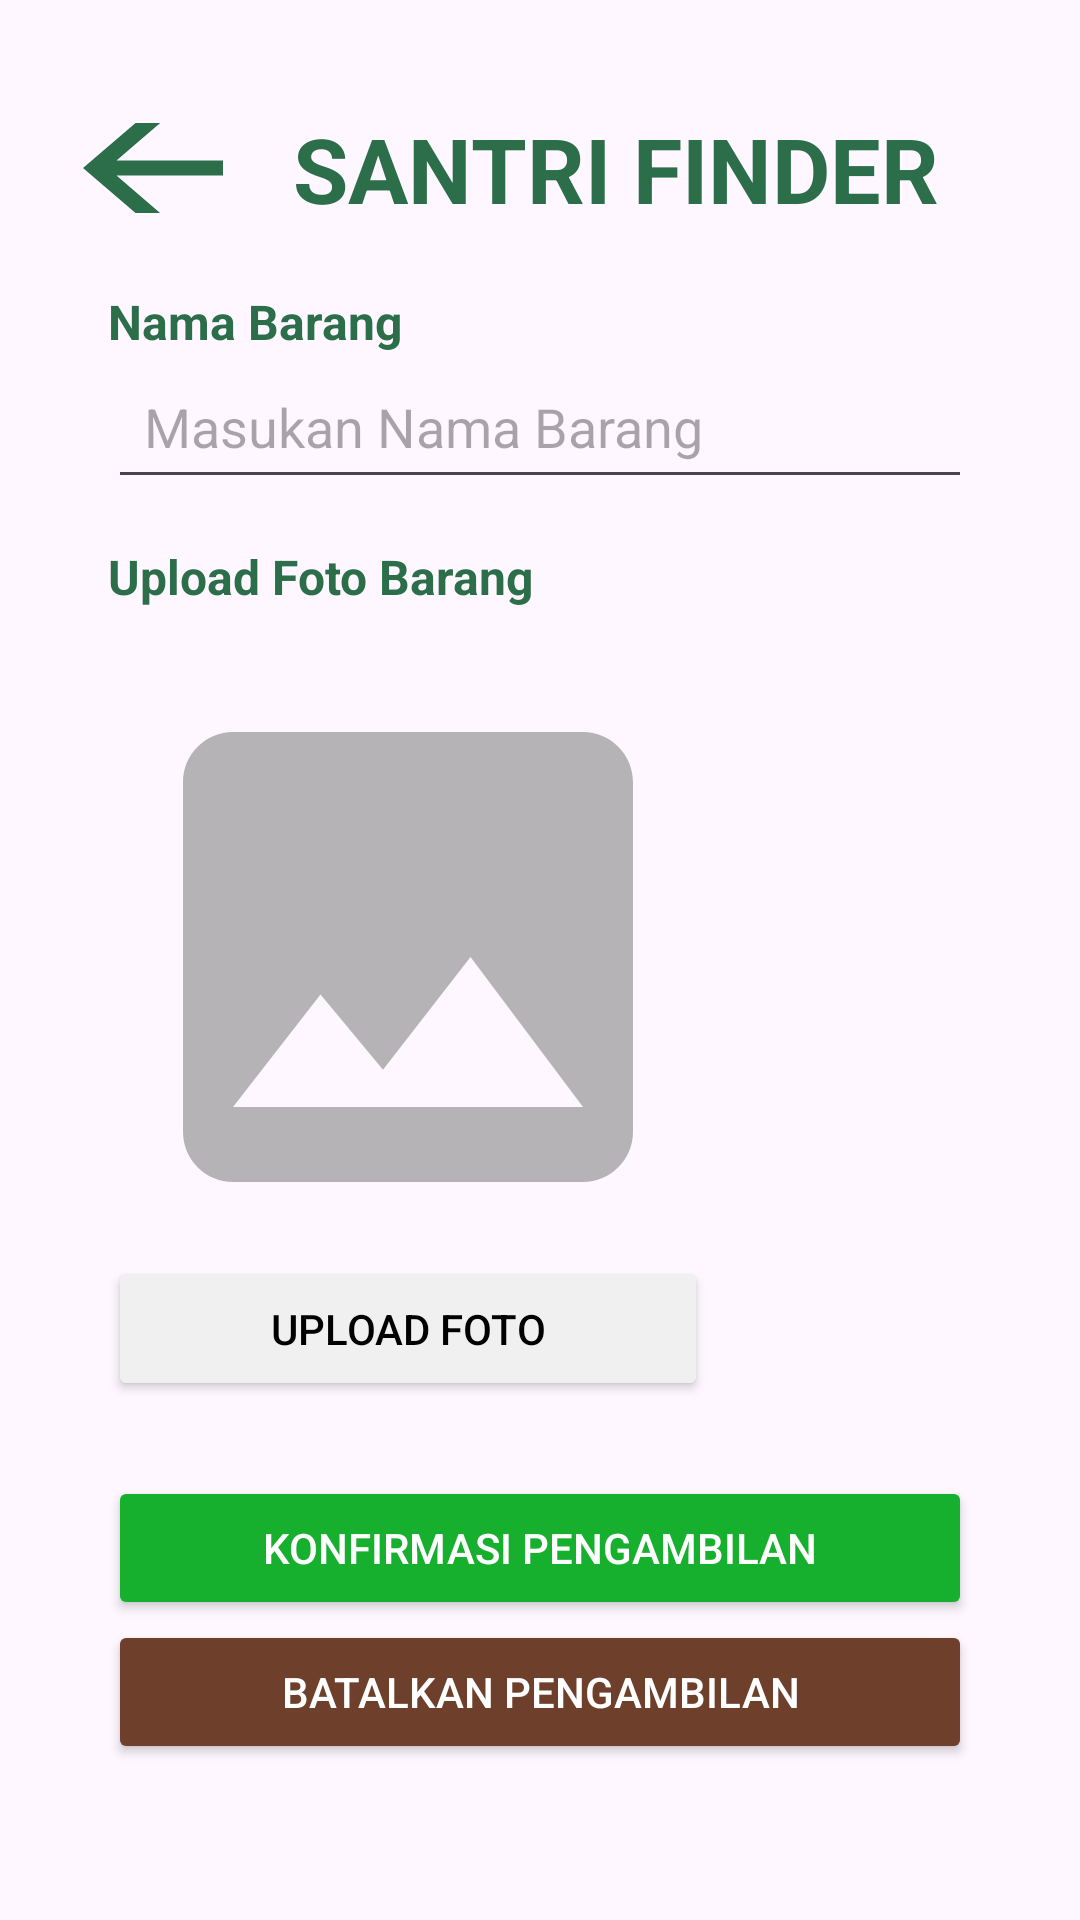

Icon bounding boxes for this 1080×1920 phone screenshot, format Rect(x1, y1, x2, y2):
Kembali: Rect(83, 123, 223, 213)
